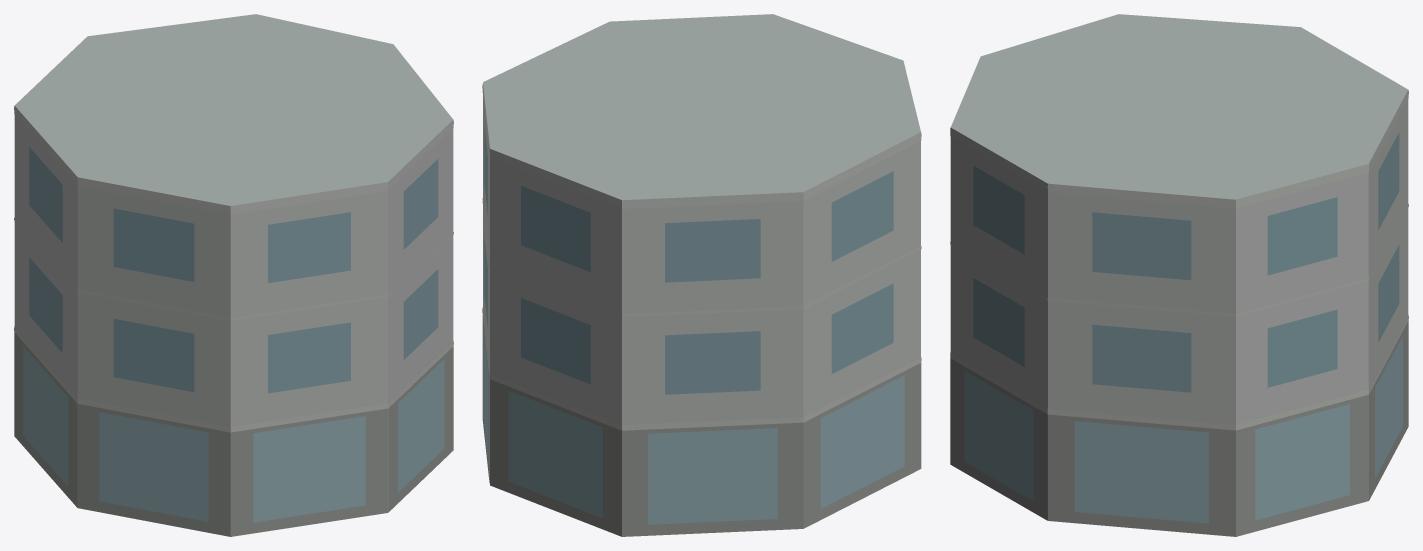
The model's file is survey-upis-32517347.glb.
3 views of the same model, side by side, from view 1: azimuth 30°, elevation 25°; view 2: azimuth 150°, elevation 25°; view 3: azimuth 270°, elevation 25° (orthographic).
Parts seen in each view (by area): view 1: survey-upis-32517347.tmp; view 2: survey-upis-32517347.tmp; view 3: survey-upis-32517347.tmp.
Part boxes in pixels (box(x1,y1,x2,y2)): survey-upis-32517347.tmp: box(14, 14, 453, 536); survey-upis-32517347.tmp: box(482, 14, 921, 536); survey-upis-32517347.tmp: box(950, 14, 1408, 536).
Bounding box in the file's own units: 10.83 × 9.15 × 11.28.
